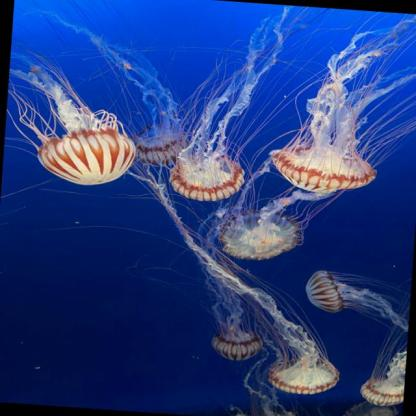jellyfish: (35, 126, 137, 188), (269, 147, 383, 196), (216, 213, 300, 261), (267, 352, 342, 397), (169, 158, 241, 201), (134, 126, 187, 165), (303, 268, 346, 314), (206, 328, 262, 362), (356, 376, 404, 406), (337, 402, 399, 415)
